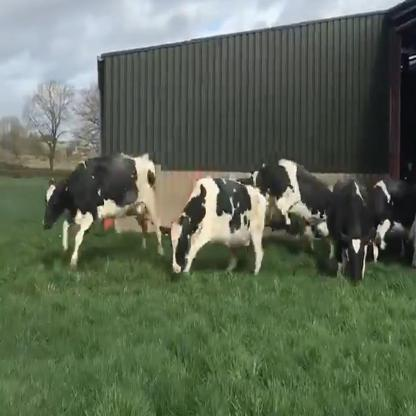cow: (42, 156, 163, 268), (160, 177, 270, 274), (252, 160, 334, 258), (334, 180, 374, 283), (372, 179, 416, 267)
